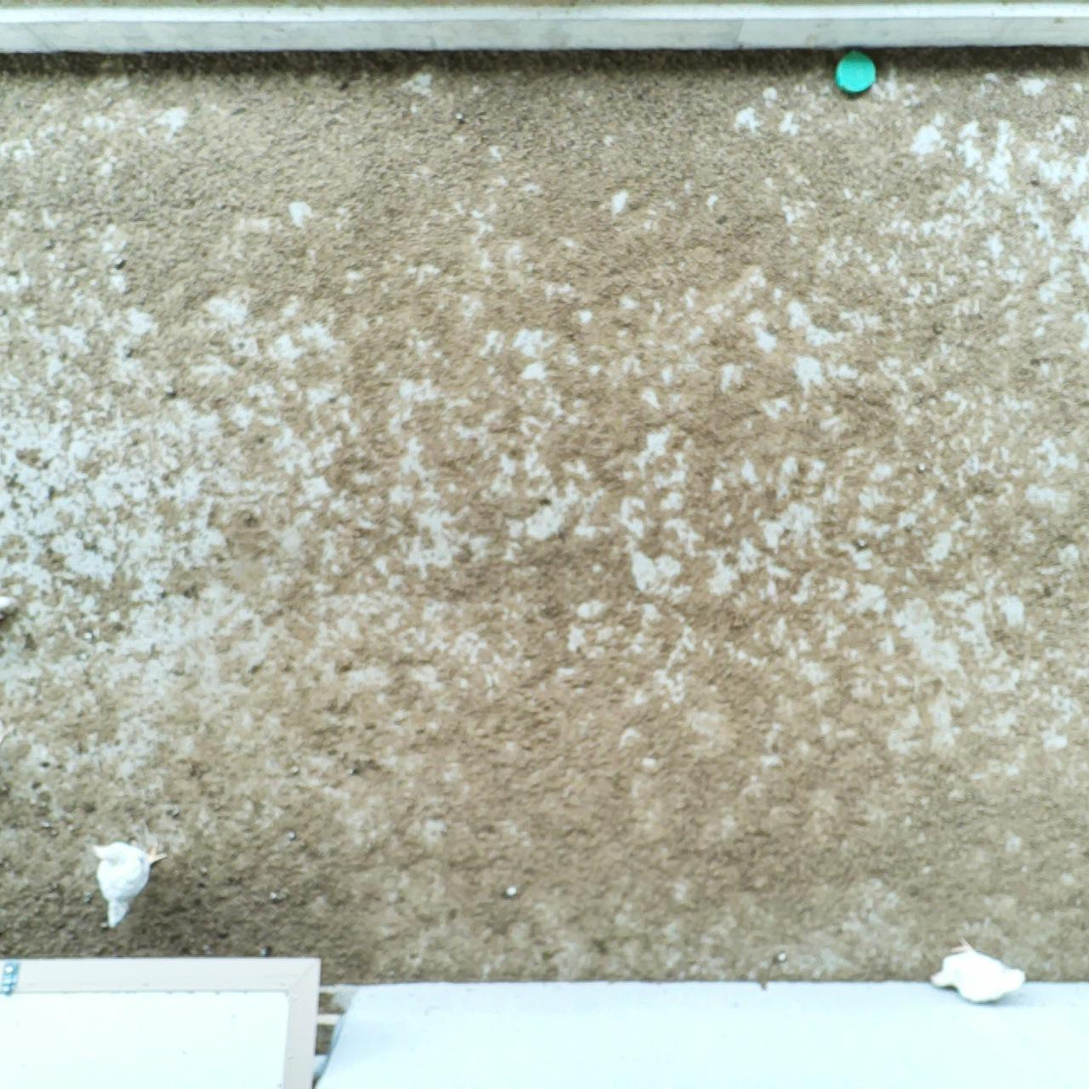chicken: (85, 832, 169, 929), (925, 932, 1030, 1008)
